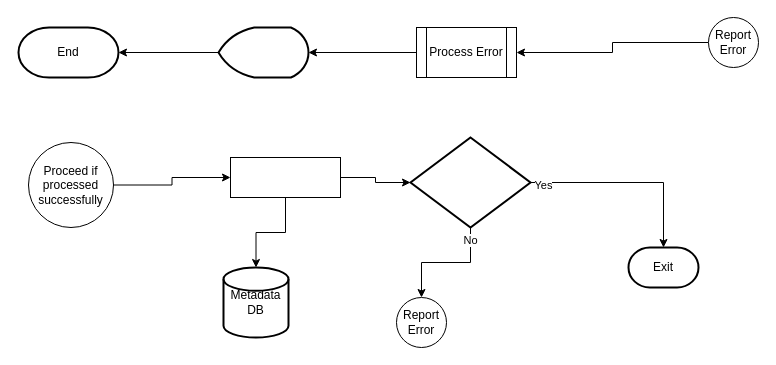
This 776x365 diagram has some shape labels left out. Here are the shapes that lost their labels. From the top down, the centre of each, then its label:
At [263,52]: "Display error message".
At [285,177]: "Get client status".
At [470,182]: "Client exists with Success status".
